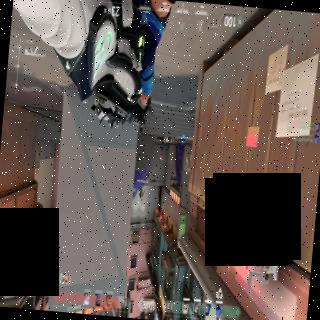ENEMY-BODY: (158, 143, 164, 161)
ENEMY-HEAD: (160, 156, 162, 160)
